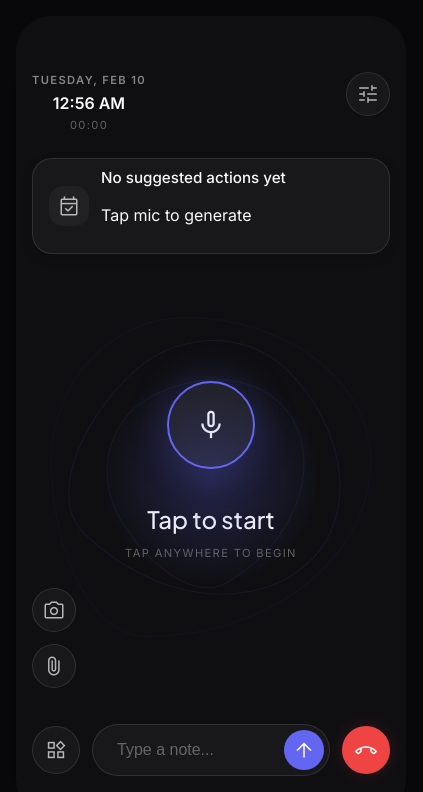
it: Chat evidence receipts › shows action title in action bar and claim in banner
Step 1. Click the button named "Microphone" → [211, 425], box [167,381,255,469]
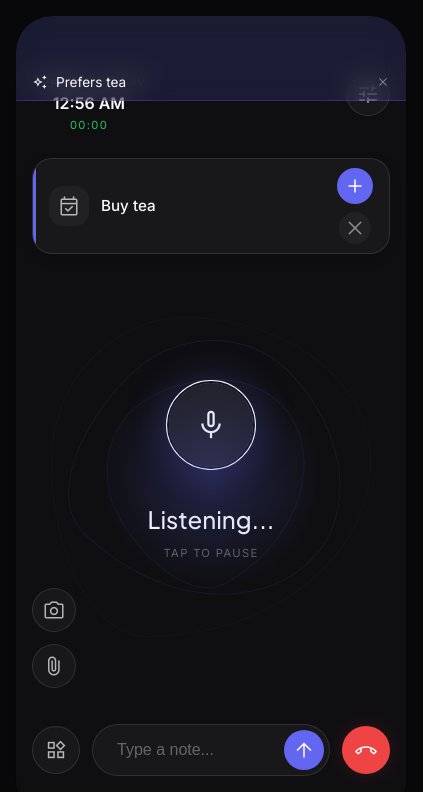
Expected: the text "Buy tea" is shown, [101,196,156,216]
Expected: the text "Prefers tea" is shown, [56,74,126,90]
